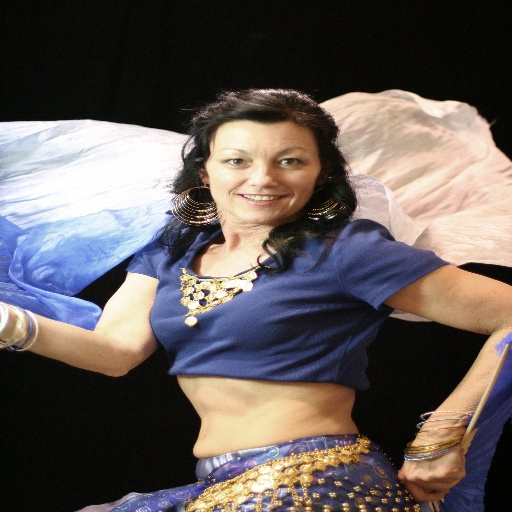hand: (405, 393, 479, 495)
